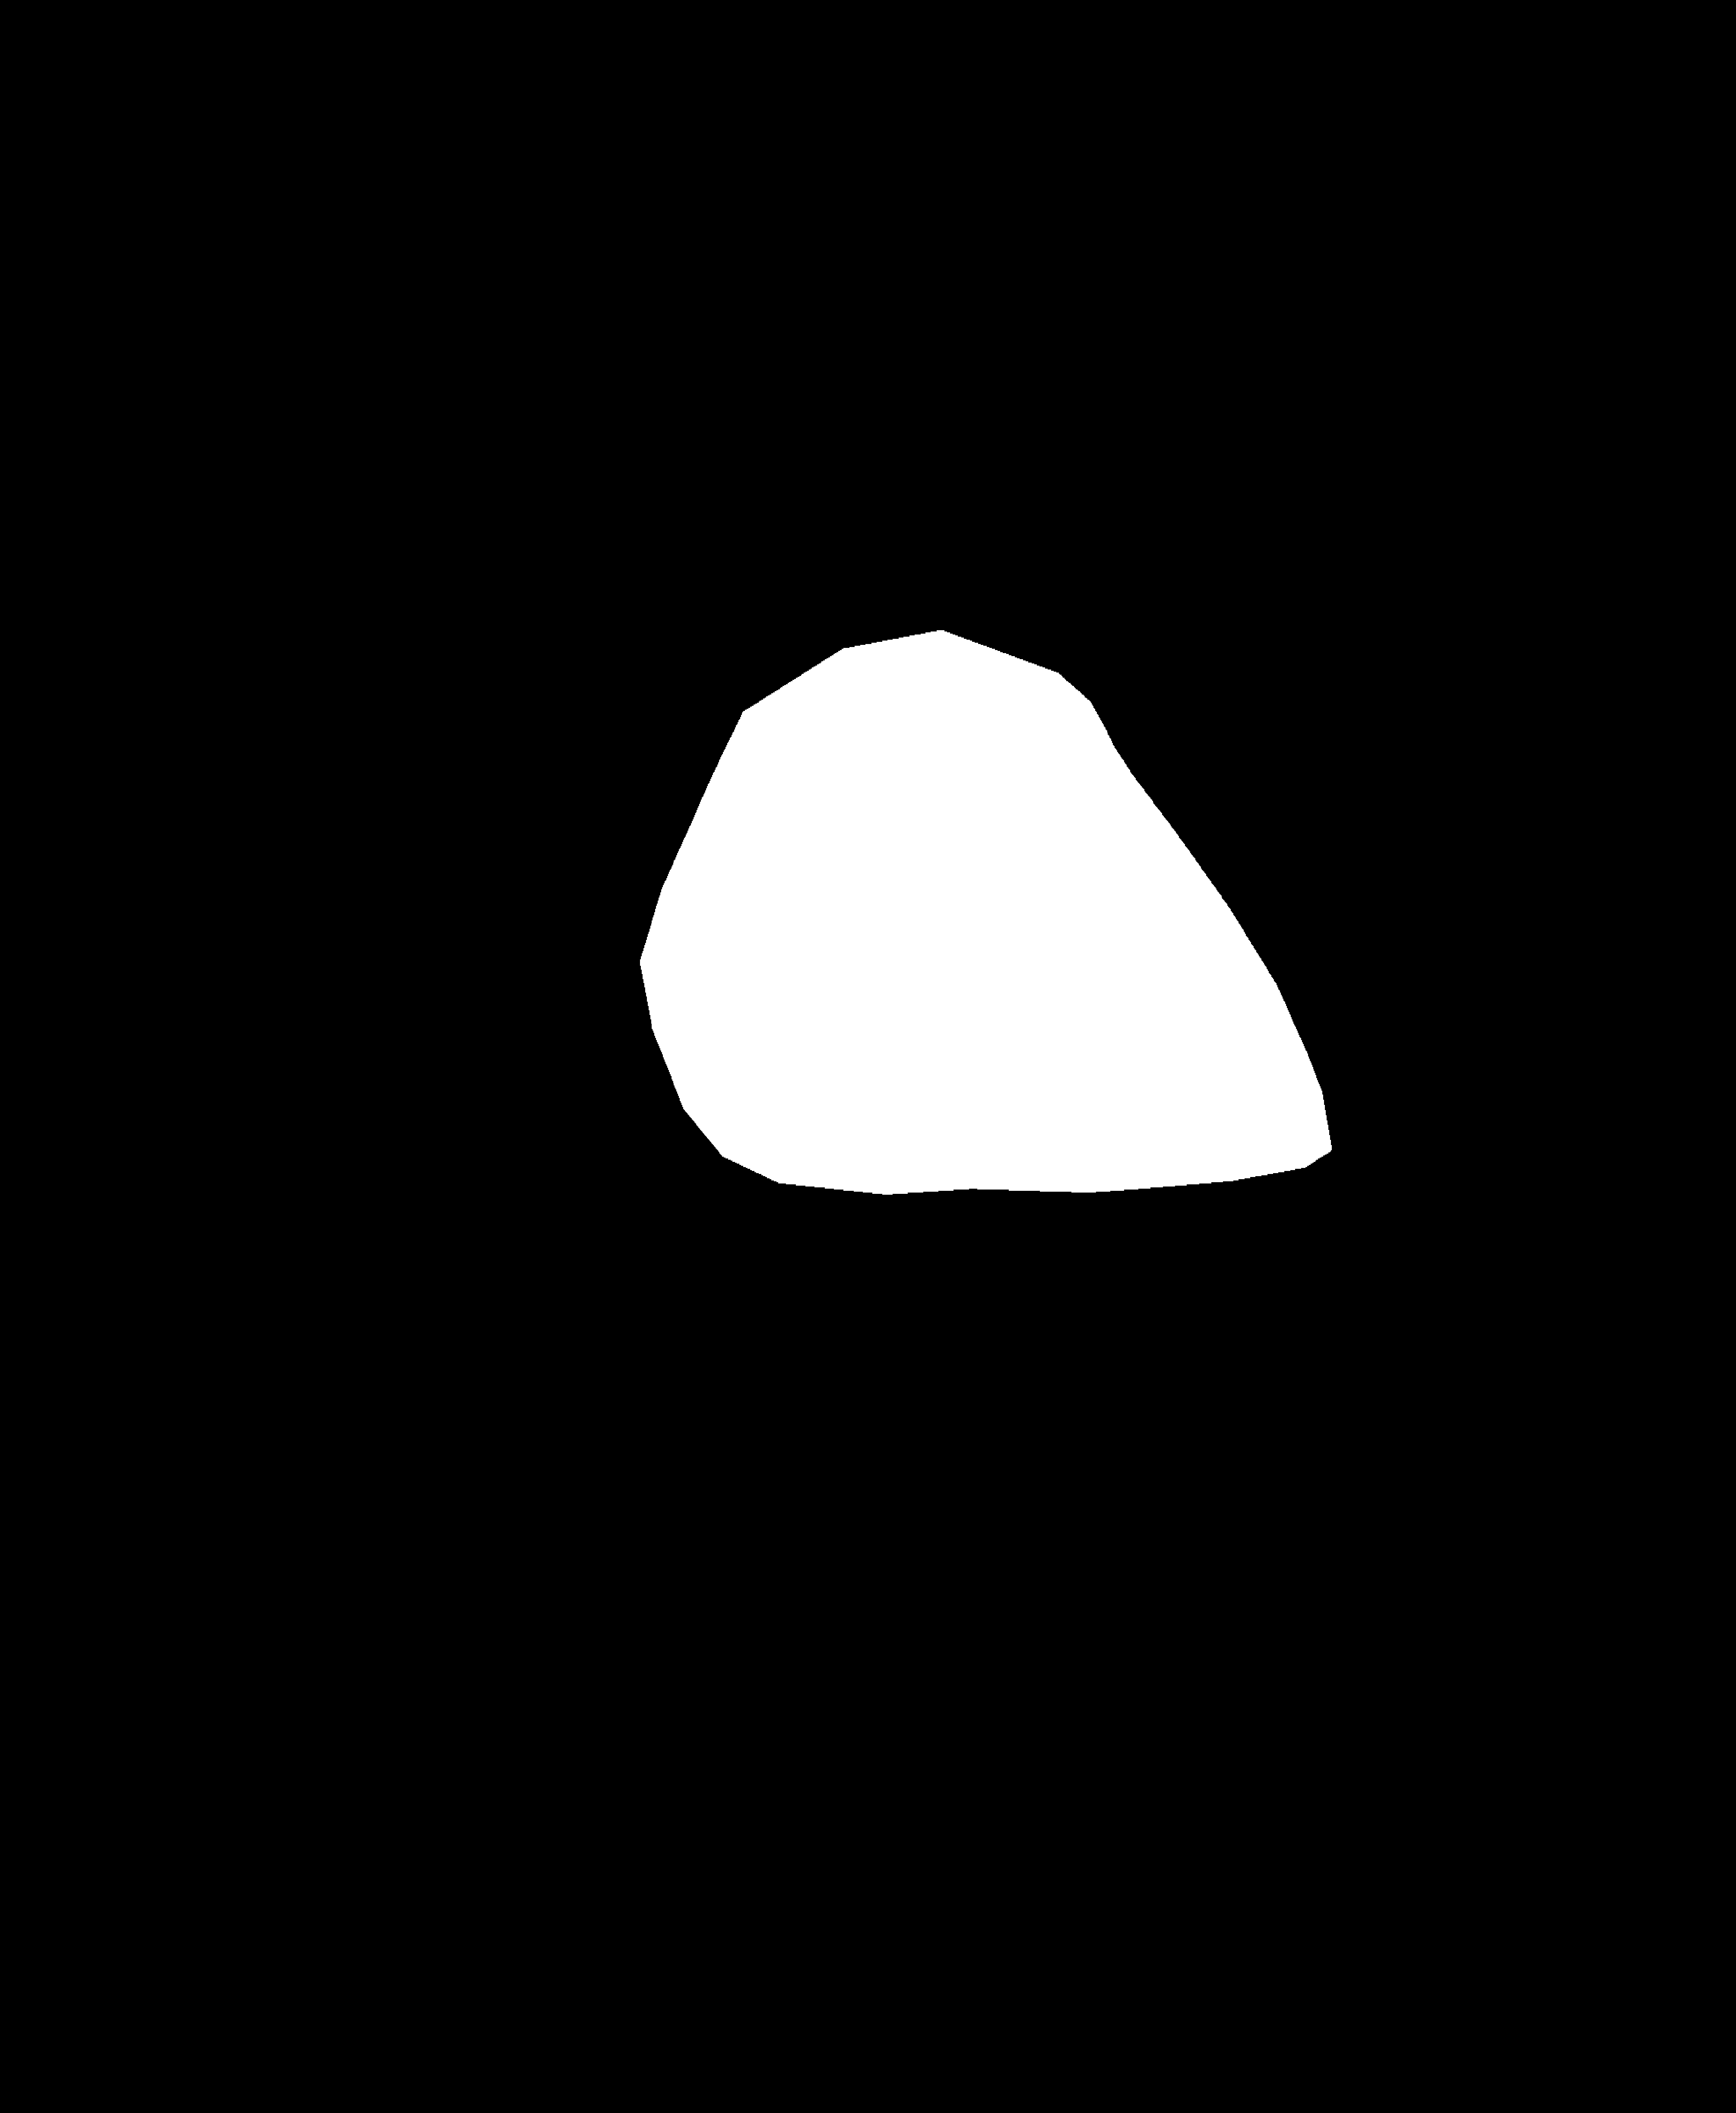heart: (632, 802, 1341, 1243)
left_lung: (176, 142, 795, 1293)
right_lung: (925, 135, 1608, 1371)
